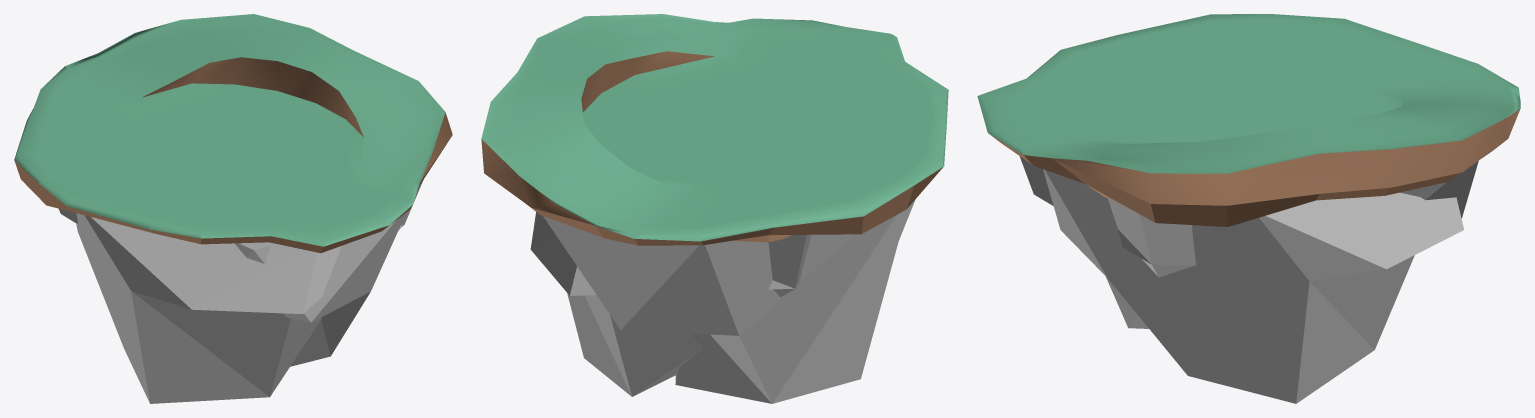
Rendered from island.fbx.
3 renders of one model, left to right at view 1: azimuth 30°, elevation 25°; view 2: azimuth 150°, elevation 25°; view 3: azimuth 270°, elevation 25°, orthographic. The views are drawn at different scales.
Visible parts, largest first — view 1: pCylinder1, rock_i, pasted__rock_i; view 2: pCylinder1, rock_i, pasted__rock_i; view 3: pCylinder1, pasted__rock_i, rock_i.
Part boxes in pixels (x1=…): pCylinder1: x1=14, y1=14, x2=452, y2=253; rock_i: x1=76, y1=179, x2=423, y2=403; pasted__rock_i: x1=59, y1=208, x2=406, y2=366; pCylinder1: x1=481, y1=14, x2=948, y2=245; rock_i: x1=543, y1=199, x2=915, y2=403; pasted__rock_i: x1=530, y1=212, x2=811, y2=396; pCylinder1: x1=977, y1=14, x2=1520, y2=226; pasted__rock_i: x1=1043, y1=169, x2=1464, y2=403; rock_i: x1=1019, y1=156, x2=1478, y2=328.
Bounding box in the file's own units: 26.11 × 17.41 × 31.
